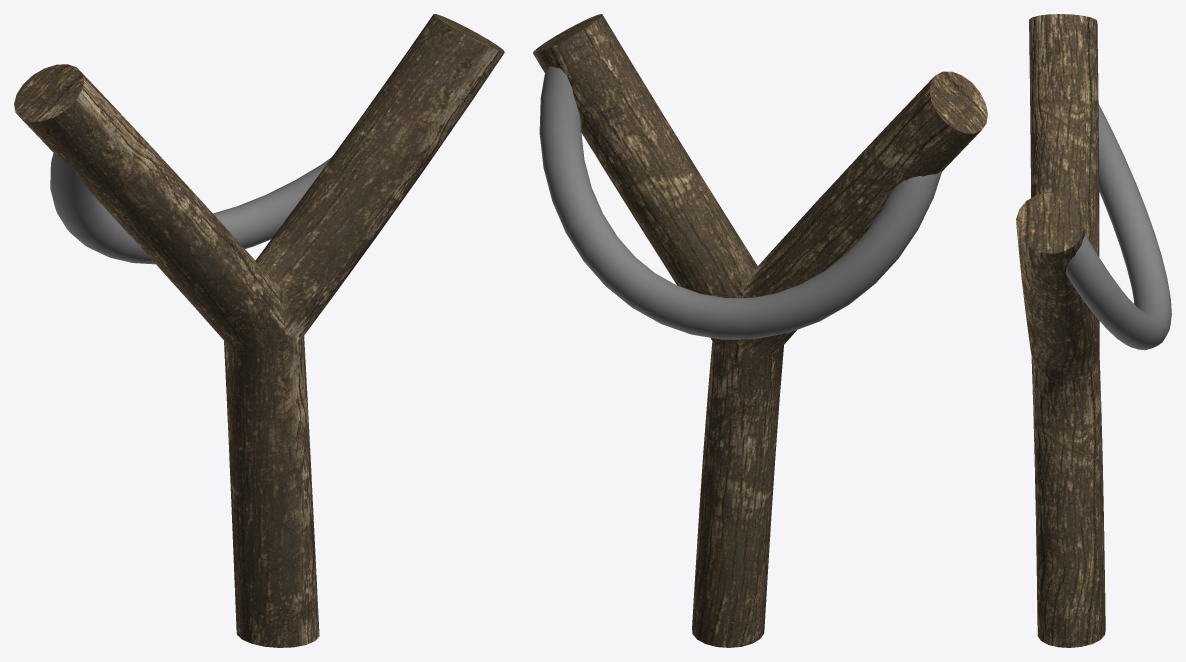
Rendered from slingshot.FBX.
3 views of the same model, side by side, from view 1: azimuth 30°, elevation 25°; view 2: azimuth 150°, elevation 25°; view 3: azimuth 270°, elevation 25° (orthographic). The views are drawn at different scales.
Parts seen in each view (by area): view 1: Slingshot, Rope; view 2: Slingshot, Rope; view 3: Slingshot, Rope.
Boxes of the visible parts, x1,y1,x2,y2 form: Slingshot: (14,14,504,647); Rope: (50,153,331,264); Slingshot: (533,14,987,647); Rope: (539,66,941,339); Slingshot: (1016,14,1105,647); Rope: (1065,104,1171,350).
Size of the model in its own units: 44.23 by 56.12 by 14.87.
